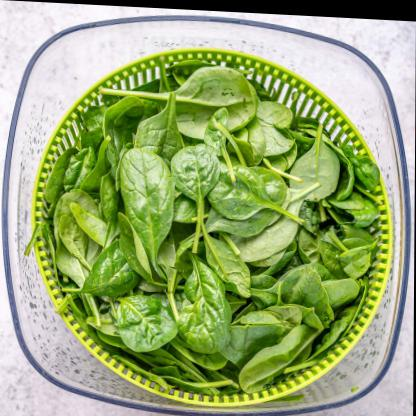spinach: (25, 51, 381, 400)
